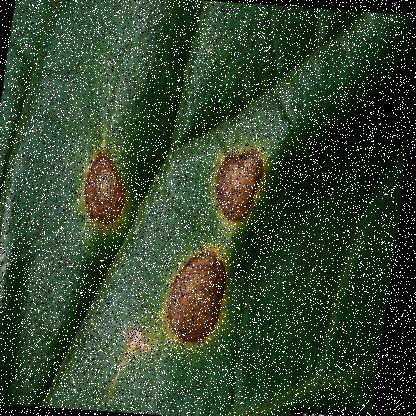AlternariaBrassicicola: (161, 244, 239, 348), (206, 140, 279, 230), (71, 146, 144, 232)
